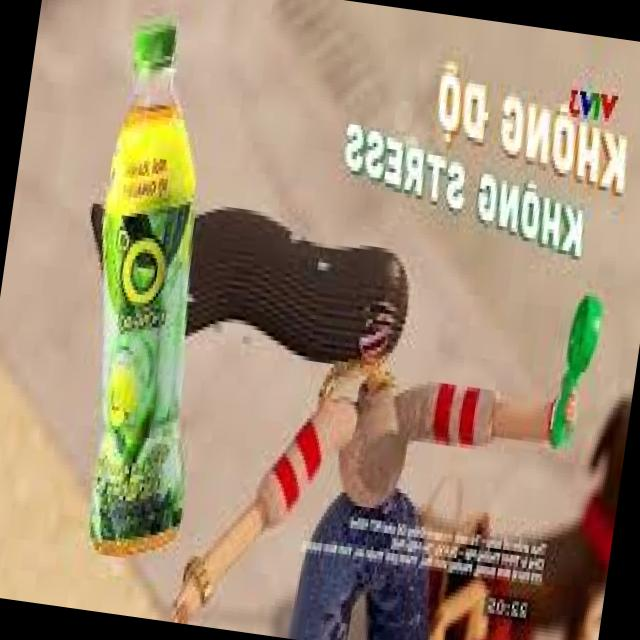tra xanh khong do: (54, 3, 255, 581)
